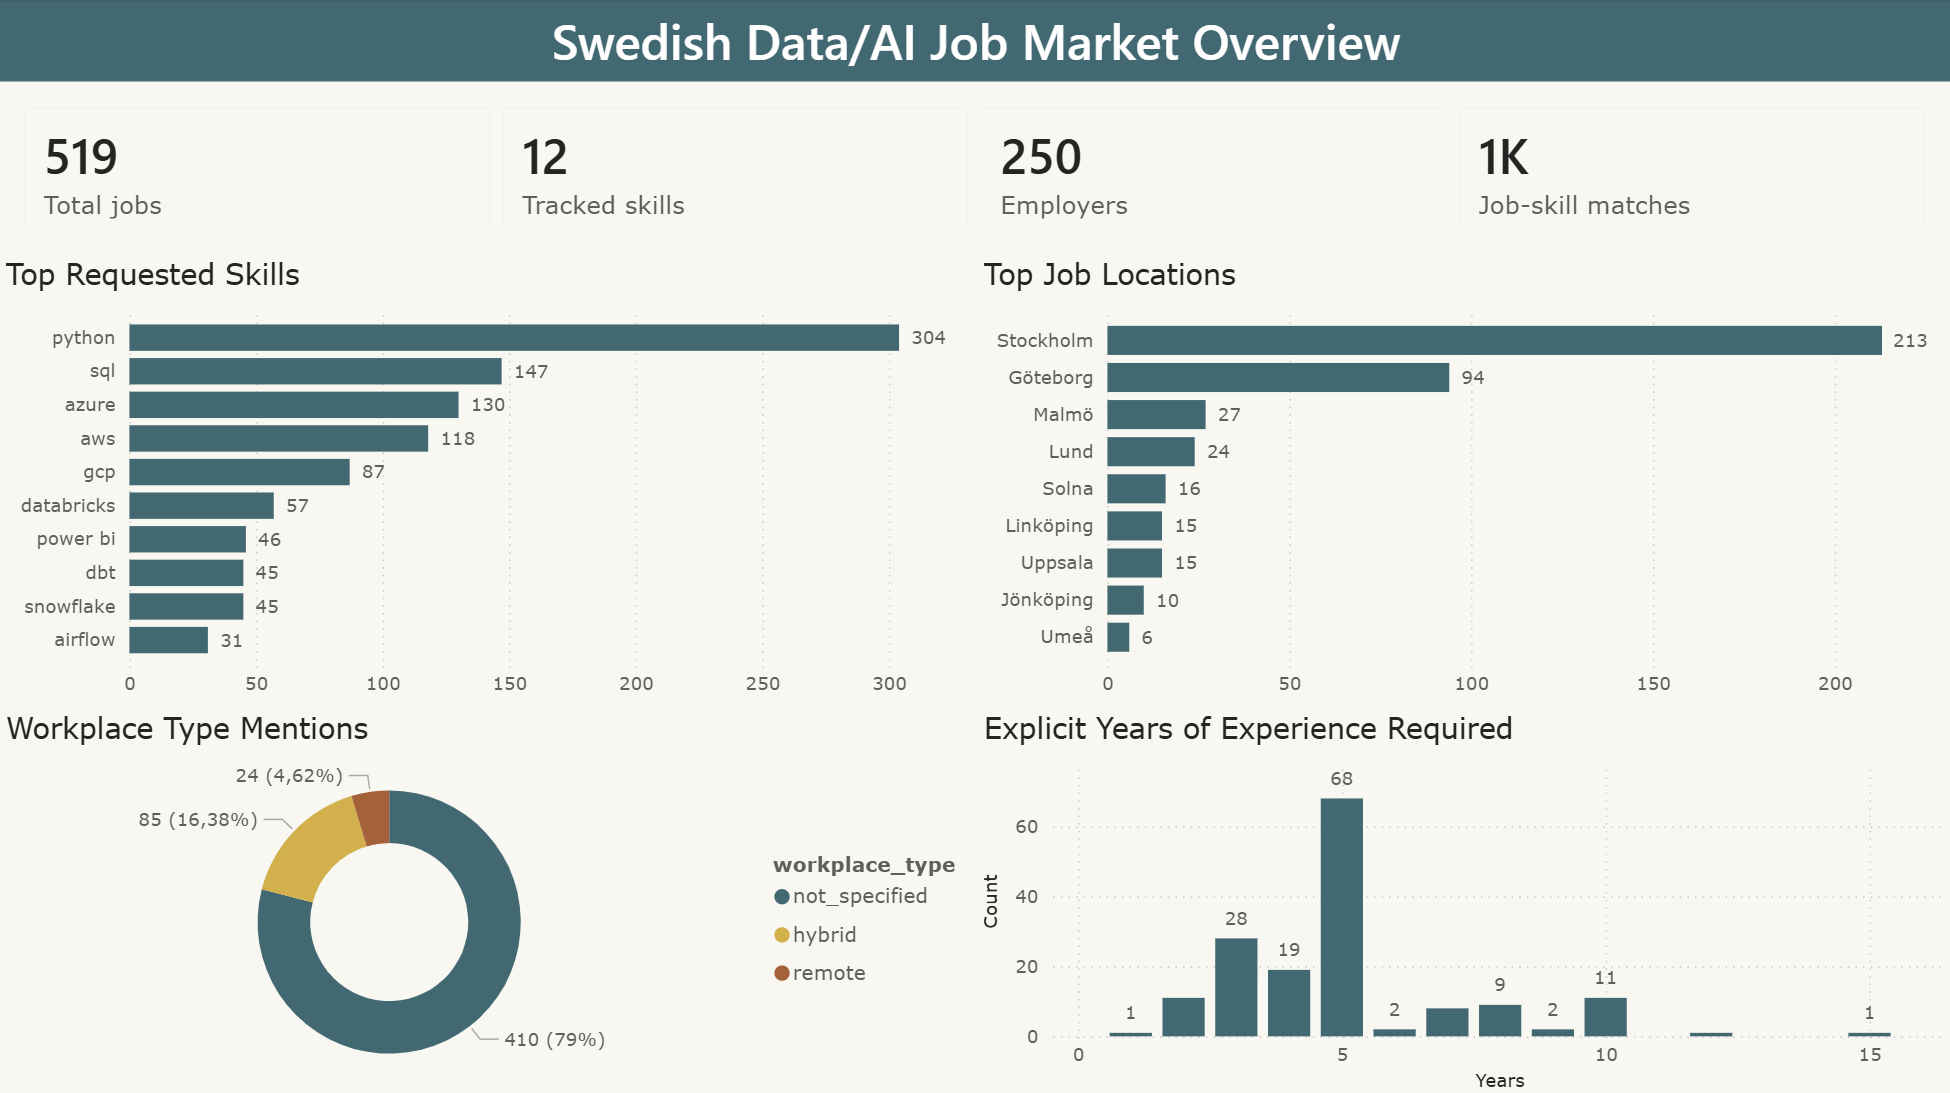

What the dashboard file says about the page in this screenshot:
{"tool":"powerbi","page":{"name":"Overview","canvas":[1280,720],"ordinal":0},"visuals":[{"type":"cardVisual","fields":{"Data":["Sum(pipeline_summary.total_jobs)","Sum(pipeline_summary.total_unique_skills)","Sum(pipeline_summary.total_employers)","Sum(pipeline_summary.total_job_skill_rows)"]},"box":[0,53.7,1280,114.5],"z":0},{"type":"textbox","box":[0,0,1280,53.7],"z":1000},{"type":"clusteredBarChart","title":"Top Requested Skills","fields":{"Y":["Sum(skill_counts.count)"],"Category":["skill_counts.skill"]},"box":[0,168.2,640,297.1],"z":2000},{"type":"clusteredBarChart","title":"Top Job Locations","fields":{"Category":["location_counts.municipality"],"Y":["Sum(location_counts.count)"]},"box":[640,168.2,640,297.1],"z":3000},{"type":"donutChart","title":"Workplace Type Mentions","fields":{"Category":["workplace_type_counts.workplace_type"],"Y":["Sum(workplace_type_counts.count)"]},"box":[0,465.3,640,254.6],"z":4000},{"type":"clusteredColumnChart","title":"Explicit Years of Experience Required","fields":{"Category":["years_experience_counts.years_experience"],"Y":["Sum(years_experience_counts.count)"]},"box":[640,465.3,640,254.6],"z":5000}]}

Visuals, with their boxes in screenshot pixels (x1, y1, x2, y2), scaled from the page's 1280x720 canvas onto the 1950x1093 screenshot:
cardVisual - Sum(pipeline_summary.total_jobs) x Sum(pipeline_summary.total_unique_skills): 0, 82, 1949, 255
textbox: 0, 0, 1949, 82
"Top Requested Skills" clusteredBarChart: 0, 255, 975, 706
"Top Job Locations" clusteredBarChart: 975, 255, 1949, 706
"Workplace Type Mentions" donutChart: 0, 706, 975, 1092
"Explicit Years of Experience Required" clusteredColumnChart: 975, 706, 1949, 1092
